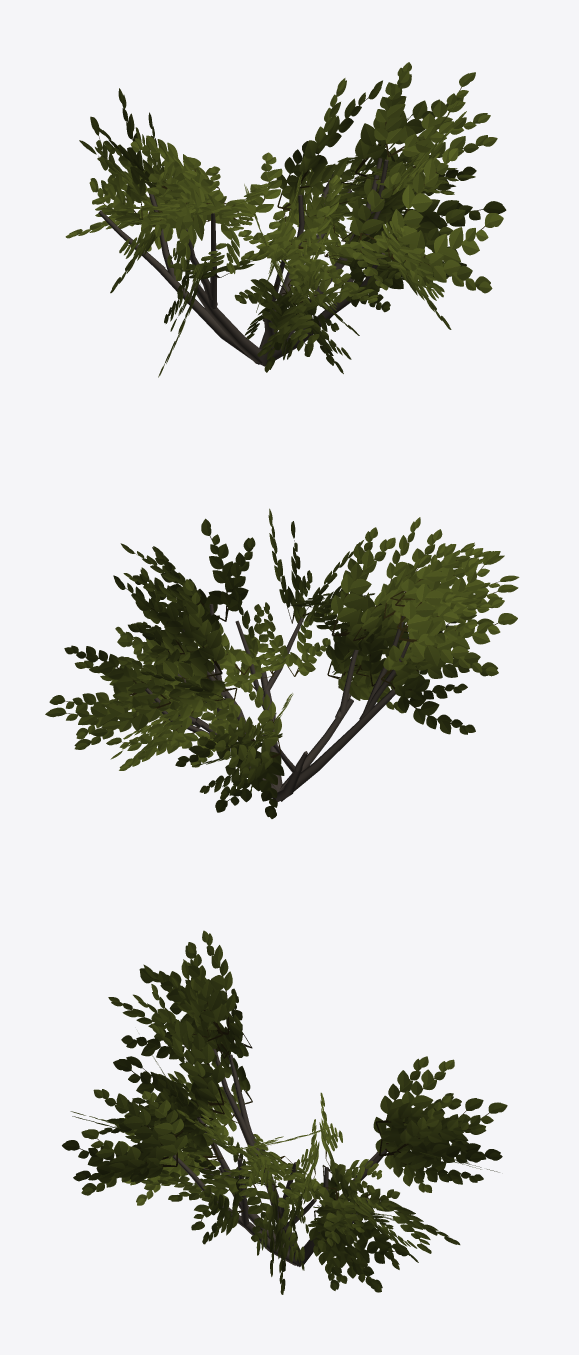
Rendered from bush_2_burnt2.glb.
3 renders of one model, top to bottom at view 1: azimuth 30°, elevation 25°; view 2: azimuth 150°, elevation 25°; view 3: azimuth 270°, elevation 25°, orthographic. The views are drawn at different scales.
Visible parts, largest first — view 1: bush_2_burnt2; view 2: bush_2_burnt2; view 3: bush_2_burnt2.
Part boxes in pixels (x1,y1,x2,y2): bush_2_burnt2: (65, 62, 506, 377); bush_2_burnt2: (45, 508, 519, 818); bush_2_burnt2: (62, 930, 507, 1294).
Size of the model in its own units: 2.88 by 1.79 by 3.08.
2 materials, 1 textured.
